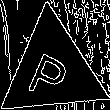P_NE: (27, 39, 77, 101)
